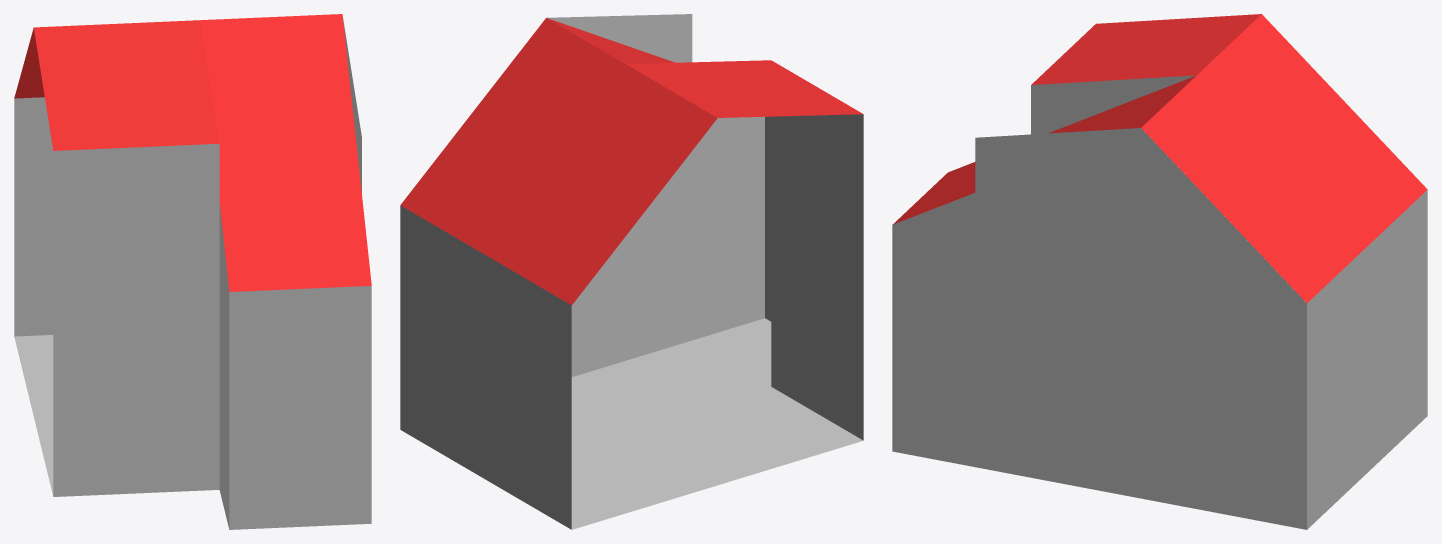
The model's file is pb-9635e7f1-7f36-11f0-919b-9c7bef4dcf4c.dae.
The picture shows the model from 3 angles, left to right: view 1: azimuth 30°, elevation 25°; view 2: azimuth 150°, elevation 25°; view 3: azimuth 270°, elevation 25°; orthographic projection. The views are drawn at different scales.
Size of the model in its own units: 9.2 by 11.78 by 9.
